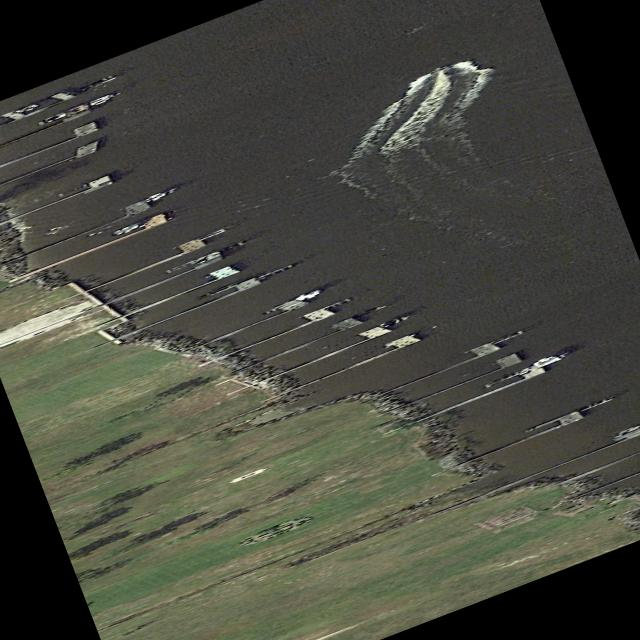ship: (526, 353, 565, 367), (290, 288, 326, 300), (424, 62, 452, 75), (113, 222, 138, 236), (142, 190, 168, 202), (373, 317, 404, 327), (87, 94, 110, 106), (42, 111, 64, 123), (12, 104, 39, 112)
